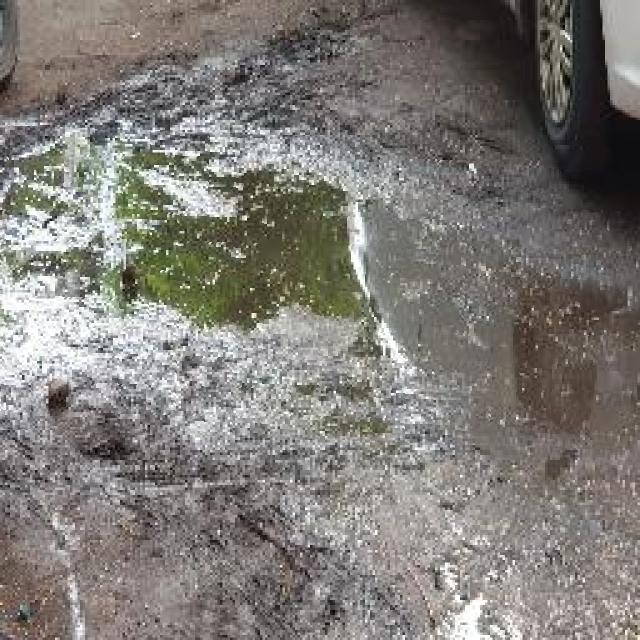puddle: (1, 131, 640, 445)
